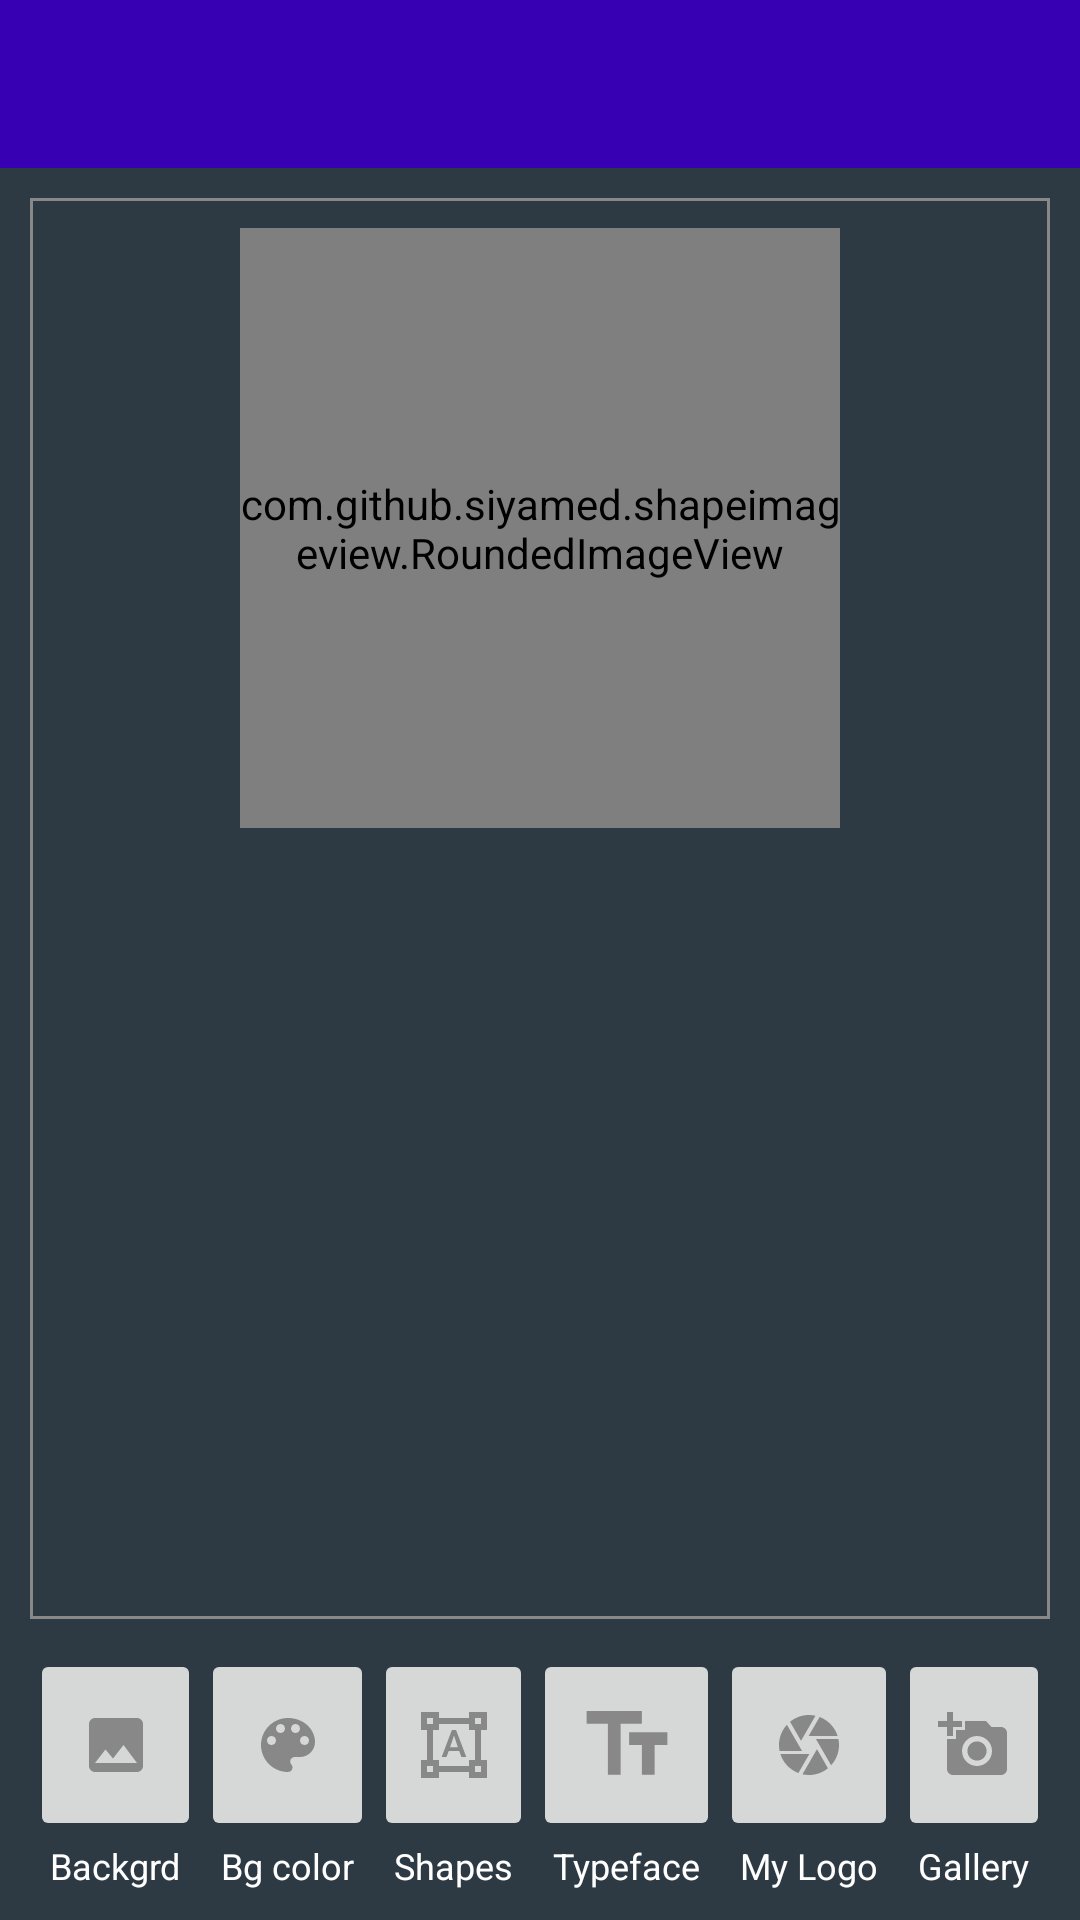

Where to tap for icons on this 1080px×1920px app screen, as (x,y):
add photo: (974,1745)
text fields: (626,1745)
